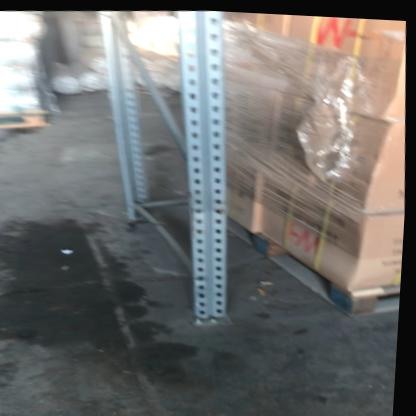vertical_damage: (188, 184, 243, 234)
